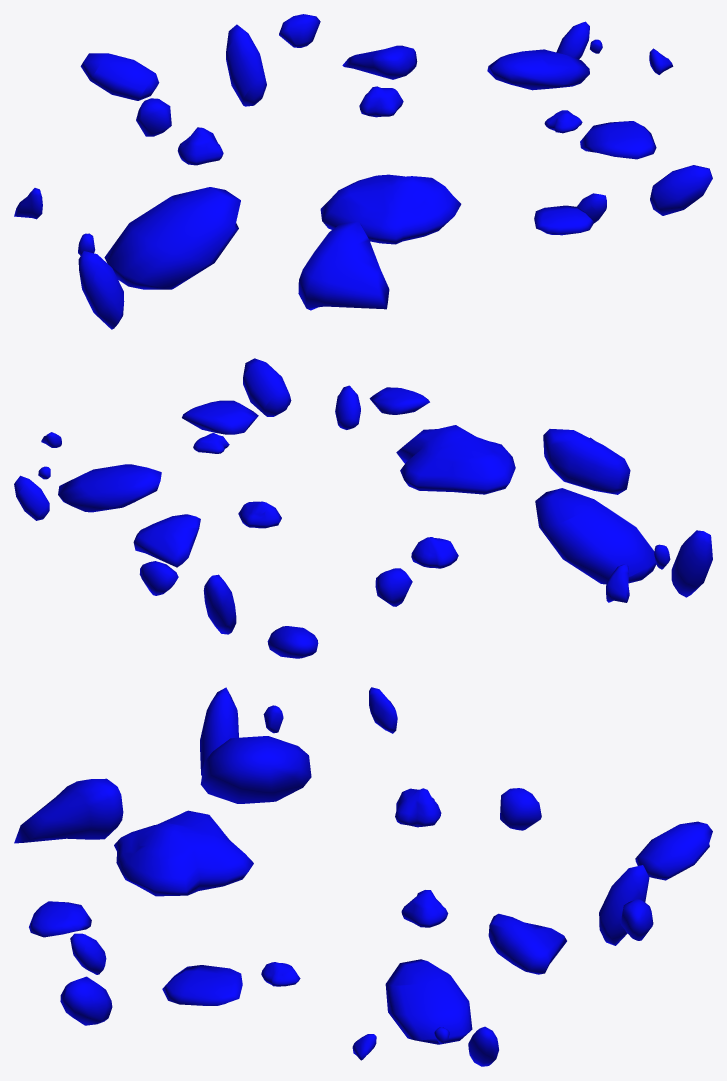
Rendered from Stone Rubble.fbx.
3 views of the same model, one above another, from view 1: azimuth 30°, elevation 25°; view 2: azimuth 150°, elevation 25°; view 3: azimuth 270°, elevation 25° (orthographic). The views are drawn at different scales.
Visible parts, largest first — view 1: Cylinder2576; view 2: Cylinder2576; view 3: Cylinder2576.
Boxes of the visible parts, x1,y1,x2,y2 form: Cylinder2576: [14, 14, 712, 329]; Cylinder2576: [14, 358, 712, 658]; Cylinder2576: [14, 687, 712, 1066].
Bounding box in the file's own units: 2.32 × 0.3277 × 1.92.
